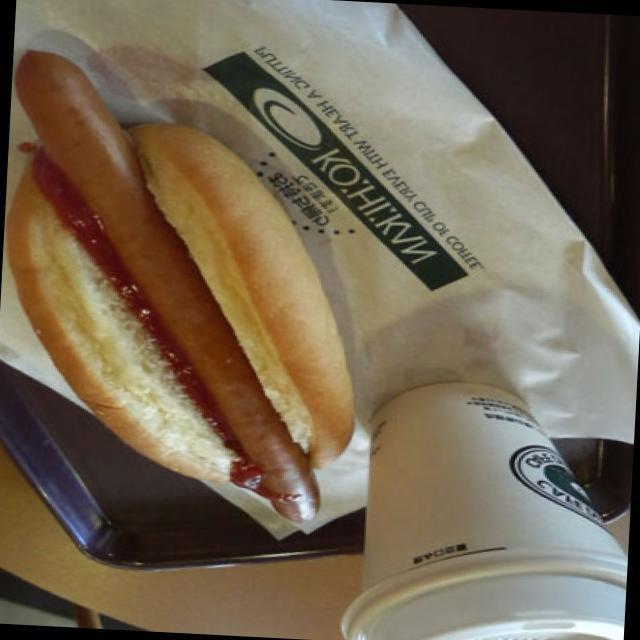Hot Dog: (6, 41, 381, 525)
